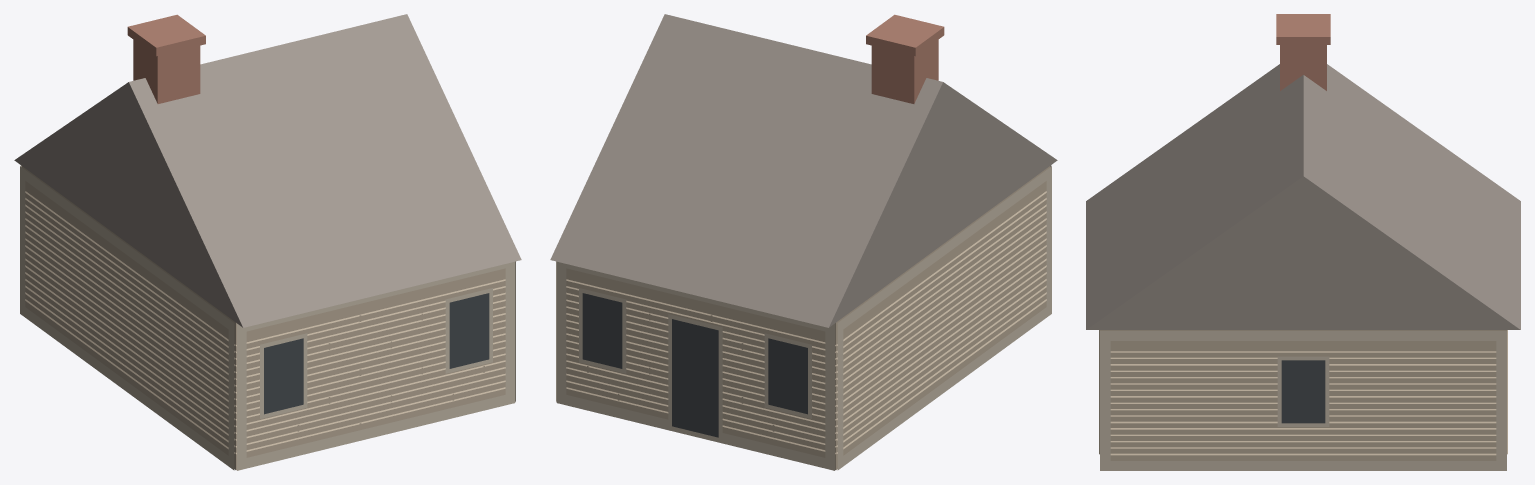
File: inf_carpenter_dwelling_north__inferred_1835.glb
3 renders of one model, left to right at view 1: azimuth 30°, elevation 25°; view 2: azimuth 150°, elevation 25°; view 3: azimuth 270°, elevation 25°, orthographic. The views are drawn at different scales.
Visible parts, largest first — view 1: inf_carpenter_dwelling_north__inferred_1835; view 2: inf_carpenter_dwelling_north__inferred_1835; view 3: inf_carpenter_dwelling_north__inferred_1835.
Boxes of the visible parts, x1,y1,x2,y2 form: inf_carpenter_dwelling_north__inferred_1835: (14, 14, 521, 470); inf_carpenter_dwelling_north__inferred_1835: (550, 14, 1057, 470); inf_carpenter_dwelling_north__inferred_1835: (1086, 14, 1520, 470).
Bounding box in the file's own units: 5.57 × 6.61 × 7.82.
